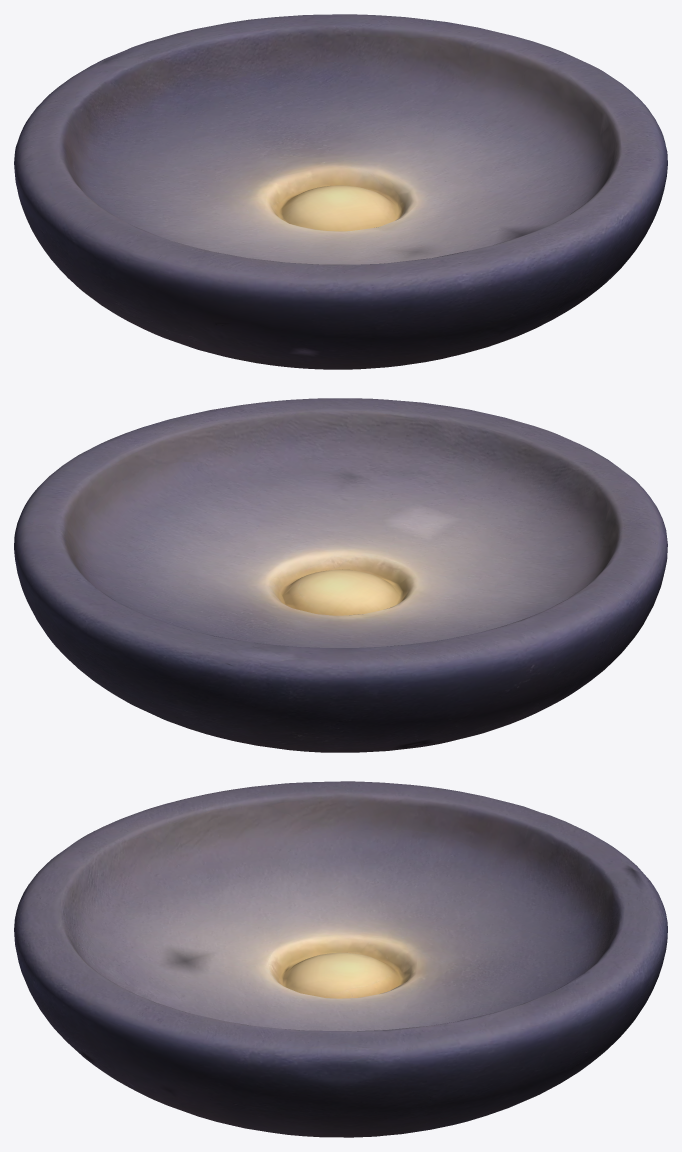
The model's file is first-light-basin-web-256.glb.
3 views of the same model, one above another, from view 1: azimuth 30°, elevation 25°; view 2: azimuth 150°, elevation 25°; view 3: azimuth 270°, elevation 25° (orthographic).
Visible parts, largest first — view 1: node_0; view 2: node_0; view 3: node_0.
Boxes of the visible parts, x1,y1,x2,y2 form: node_0: (14,14,667,369); node_0: (14,398,667,752); node_0: (14,781,667,1137).
Size of the model in its own units: 1.17 by 0.3045 by 1.17.
Materials: 1 (1 with a texture image).
